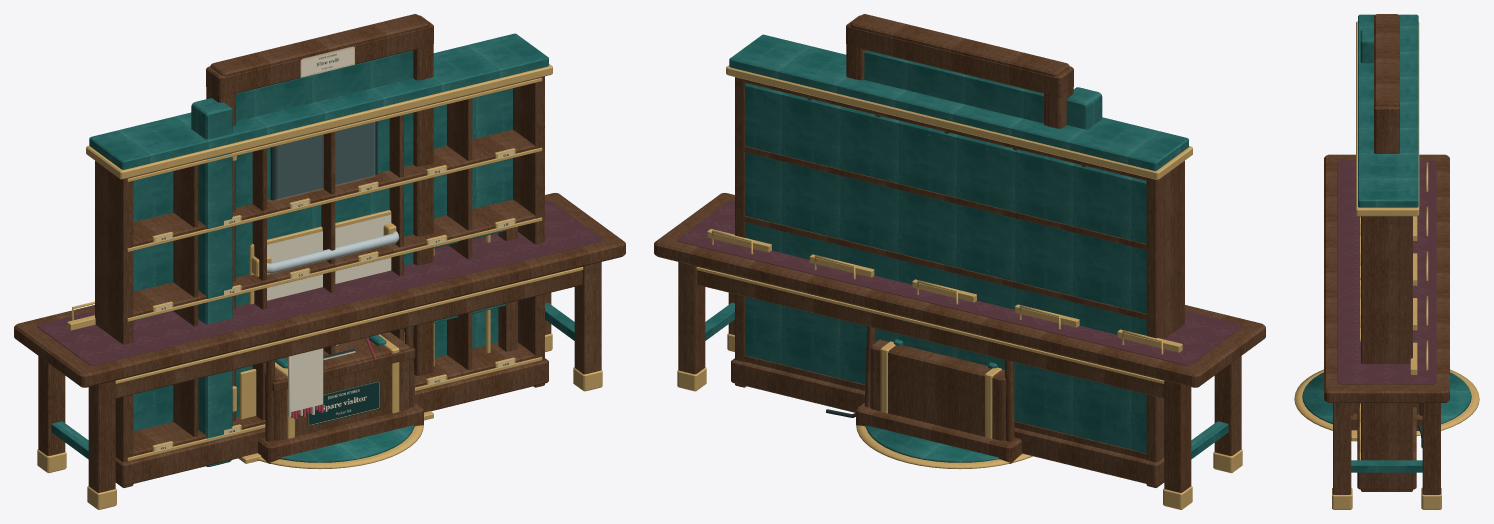
Rendered from visitor-services.glb.
3 renders of one model, left to right at view 1: azimuth 30°, elevation 25°; view 2: azimuth 150°, elevation 25°; view 3: azimuth 270°, elevation 25°, orthographic. The views are drawn at different scales.
Visible parts, largest first — view 1: annex_cabinet_body, annex_corrections_desk_body, annex_fire_exit_body, annex_keeper_door_body, annex_crate_body, annex_judge_body, judge_face, annex_agenda_body, scarf_pattern, annex_forum_leaf_body, annex_scarf_body, annex_numbers_0_body; view 2: annex_cabinet_body, annex_corrections_desk_body, annex_fire_exit_body, annex_crate_body, annex_keeper_door_body, annex_agenda_body, annex_judge_body, annex_scarf_body; view 3: annex_corrections_desk_body, annex_cabinet_body, annex_agenda_body, annex_keeper_door_body, annex_fire_exit_body.
Boxes of the visible parts, x1=… form: annex_cabinet_body: x1=86, y1=33, x2=552, y2=487; annex_corrections_desk_body: x1=14, y1=193, x2=625, y2=509; annex_fire_exit_body: x1=206, y1=15, x2=433, y2=419; annex_keeper_door_body: x1=191, y1=14, x2=433, y2=466; annex_crate_body: x1=265, y1=332, x2=415, y2=440; annex_judge_body: x1=249, y1=210, x2=423, y2=463; judge_face: x1=267, y1=215, x2=391, y2=300; annex_agenda_body: x1=257, y1=425, x2=423, y2=469; scarf_pattern: x1=291, y1=348, x2=322, y2=411; annex_forum_leaf_body: x1=335, y1=226, x2=517, y2=366; annex_scarf_body: x1=265, y1=326, x2=415, y2=441; annex_numbers_0_body: x1=155, y1=150, x2=514, y2=451; annex_cabinet_body: x1=726, y1=34, x2=1192, y2=487; annex_corrections_desk_body: x1=654, y1=193, x2=1265, y2=509; annex_fire_exit_body: x1=846, y1=15, x2=1073, y2=128; annex_crate_body: x1=870, y1=339, x2=1014, y2=440; annex_keeper_door_body: x1=850, y1=14, x2=1102, y2=129; annex_agenda_body: x1=856, y1=425, x2=1032, y2=469; annex_judge_body: x1=856, y1=403, x2=1022, y2=463; annex_scarf_body: x1=864, y1=326, x2=1014, y2=441; annex_corrections_desk_body: x1=1324, y1=154, x2=1449, y2=509; annex_cabinet_body: x1=1356, y1=14, x2=1419, y2=491; annex_agenda_body: x1=1294, y1=369, x2=1479, y2=435; annex_keeper_door_body: x1=1351, y1=14, x2=1399, y2=441; annex_fire_exit_body: x1=1374, y1=16, x2=1399, y2=153.
Bounding box in the file's own units: 3.35 × 2.25 × 1.1.
13 materials, 8 textured.
